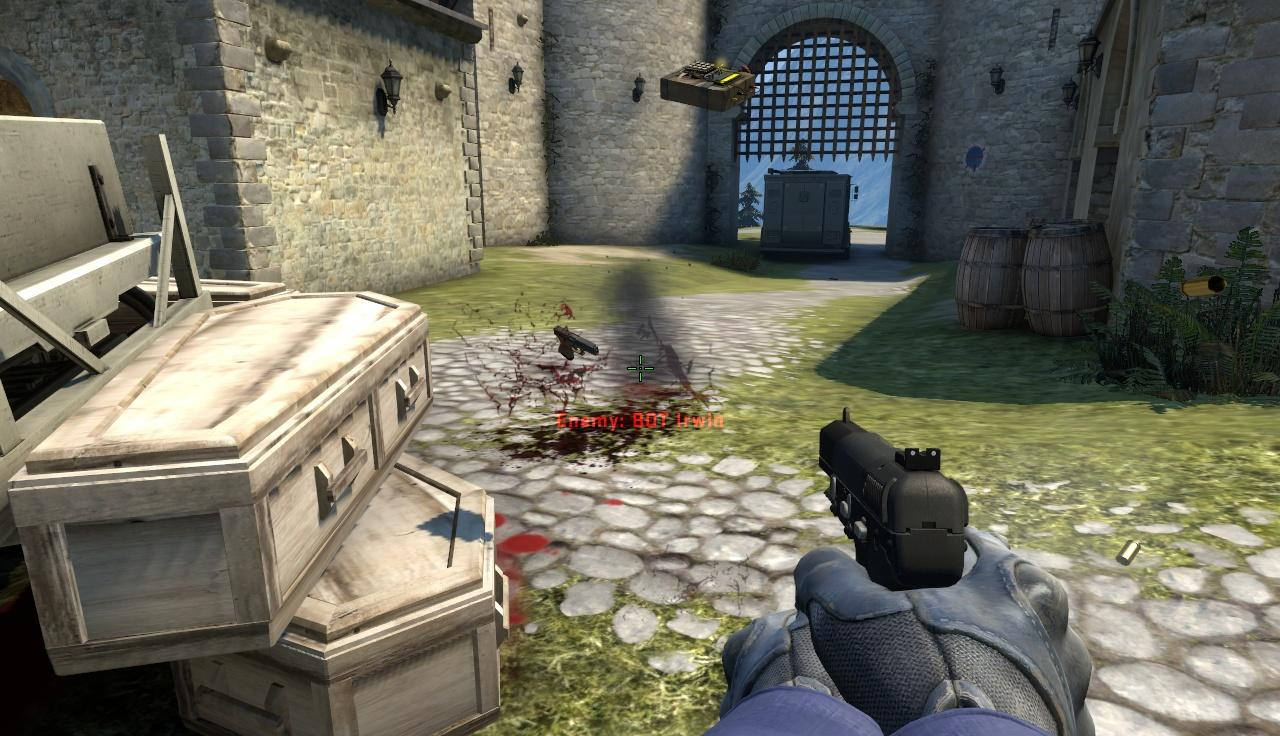pistol: (796, 400, 1082, 733)
